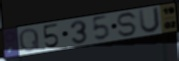3: (69, 19, 88, 45)
5: (91, 14, 112, 42), (42, 22, 60, 49)
Q: (18, 27, 41, 53)
S: (116, 11, 139, 39)
U: (138, 6, 162, 35)
